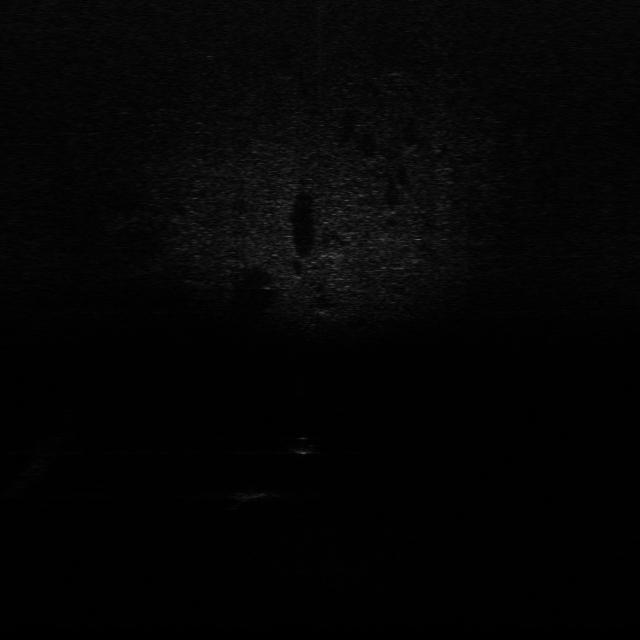ball: (290, 434, 320, 455)
square cage: (232, 484, 283, 502)
